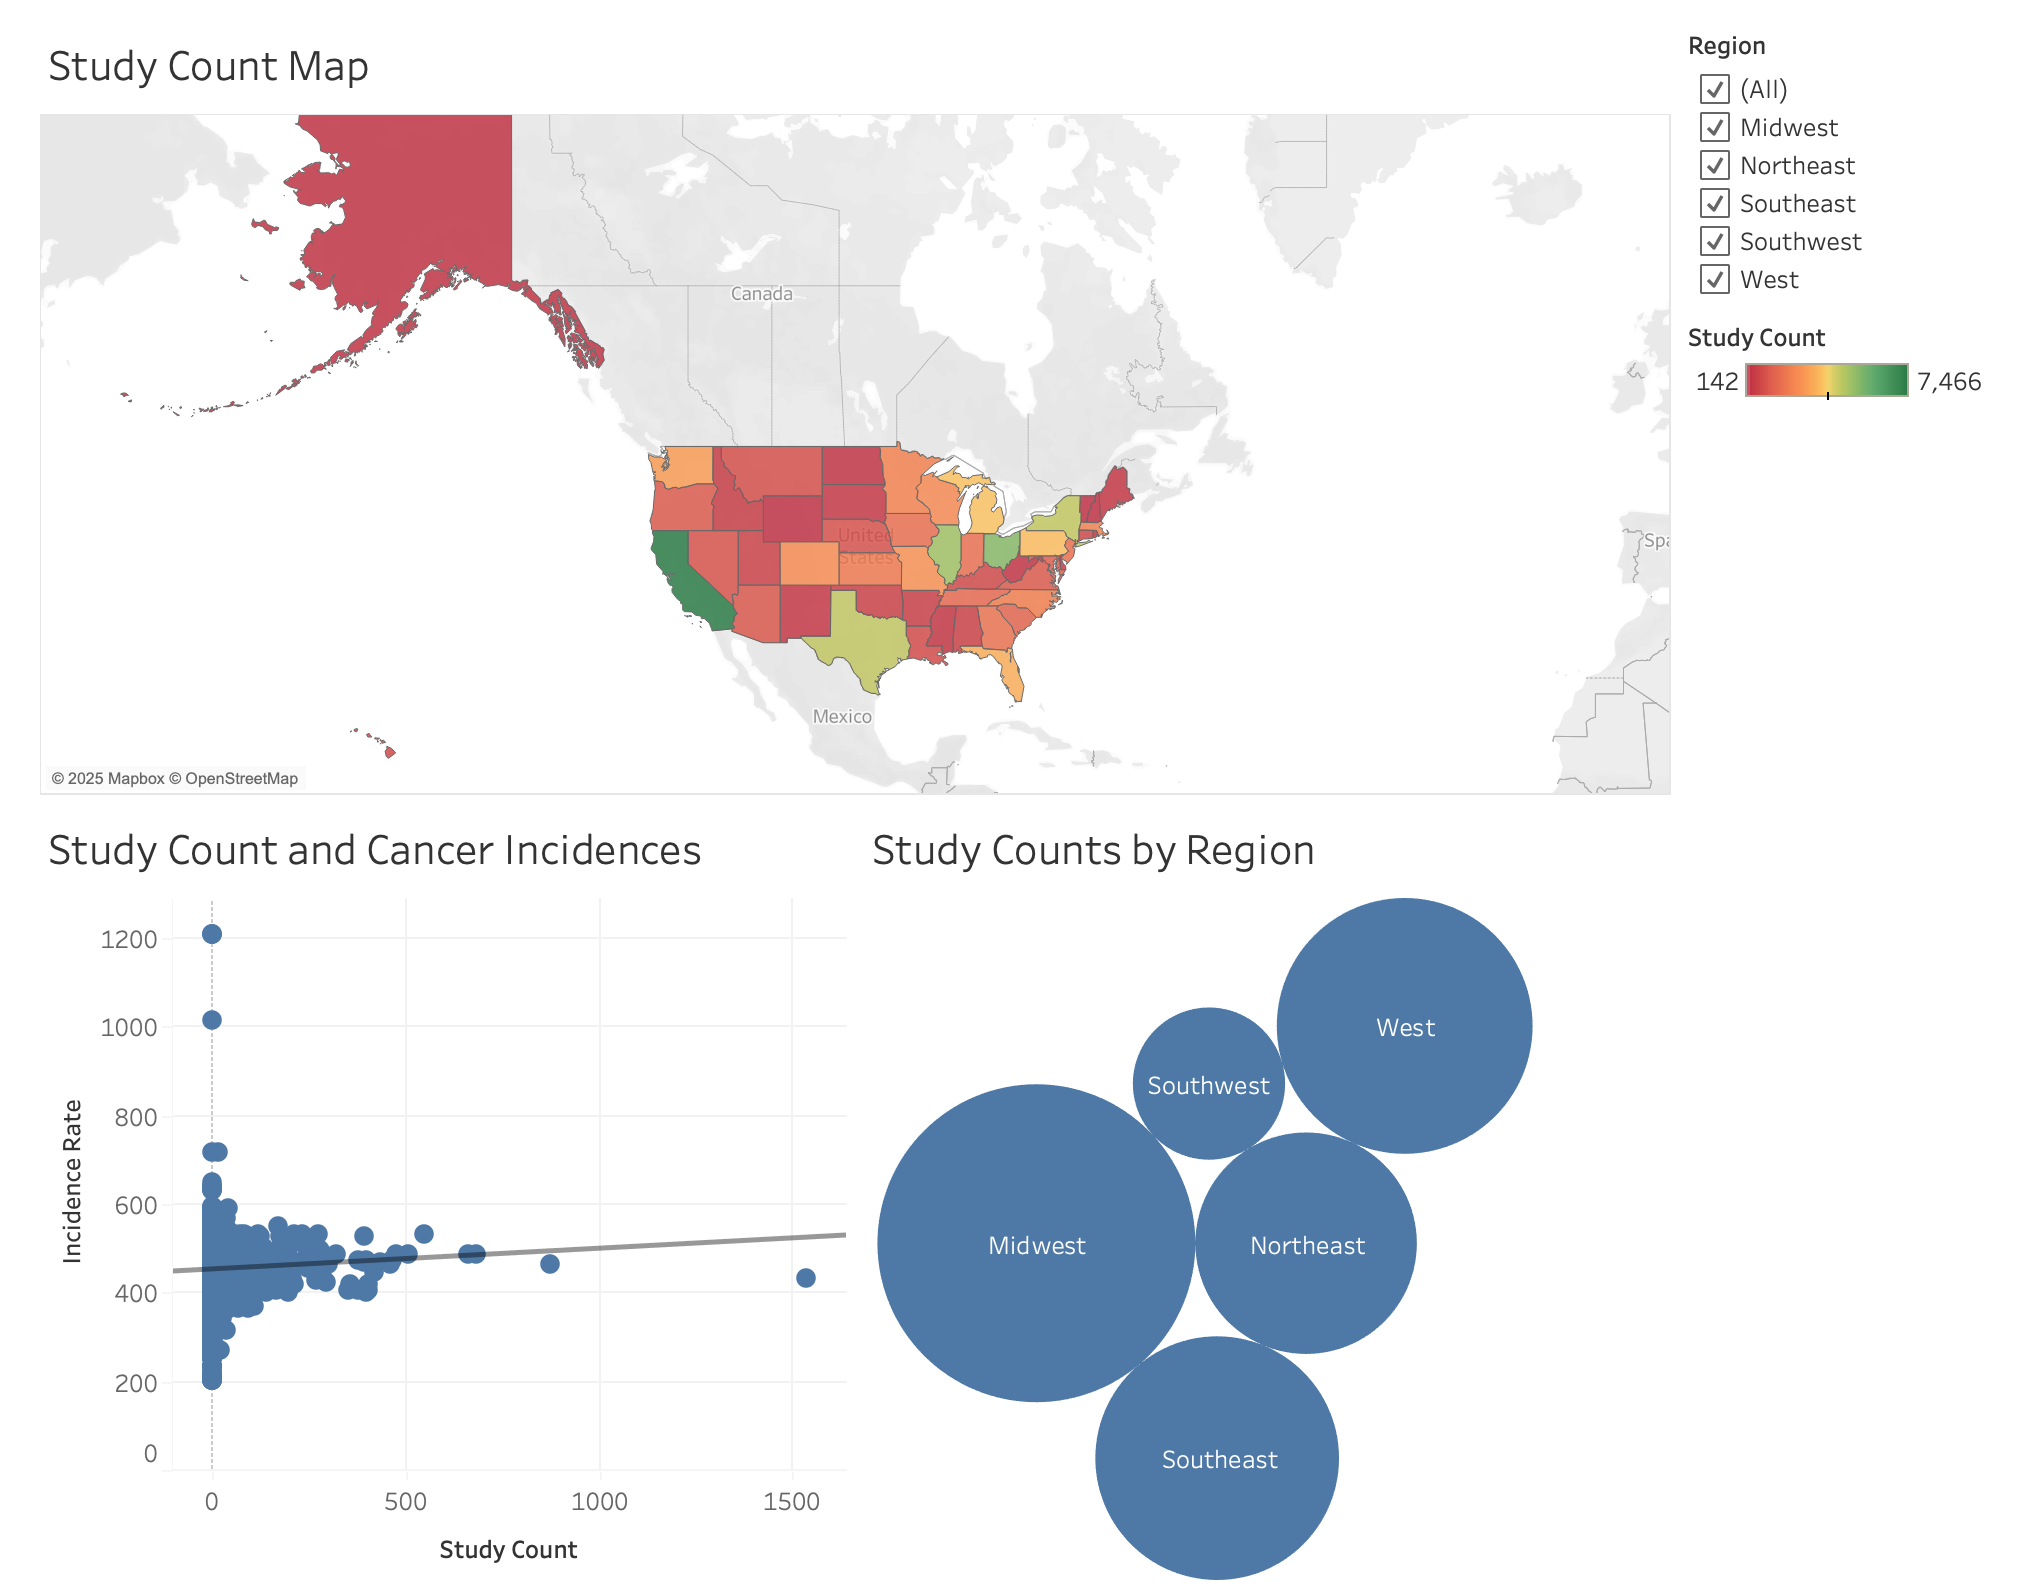

The page's visual inventory and layout, read from the dashboard file:
{"tool":"tableau","page":{"name":"United States Study Counts ","canvas":[1000,800],"ordinal":10},"visuals":[{"type":"worksheet","title":"Study Count Map","mark":"Automatic","box":[8,8,824,392]},{"type":"filter","title":"Study Count Map","param":"[federated.04o36gq1rfu74516y9lqn1qlyah2].[none:Region:nk]","box":[832,8,160,146]},{"type":"legend","title":"Study Count Map","param":"[federated.04o36gq1rfu74516y9lqn1qlyah2].[sum:studyCount:qk]","box":[832,154,160,65]},{"type":"worksheet","title":"Study Count and Cancer Incidences","mark":"Shape","rows":["incidenceRate"],"cols":["studyCount"],"box":[8,400,412,392]},{"type":"worksheet","title":"Region and Study Count","mark":"Circle","box":[420,400,412,392]}]}

Visuals, with their boxes in screenshot pixels (x1, y1, x2, y2), scaled from the page's 1000x800 canvas onto the 2018x1596 screenshot:
"Study Count Map" worksheet: (16, 16, 1679, 798)
"Study Count Map" filter: (1679, 16, 2002, 307)
"Study Count Map" legend: (1679, 307, 2002, 437)
"Study Count and Cancer Incidences" worksheet (Shape marks): (16, 798, 848, 1580)
"Region and Study Count" worksheet (Circle marks): (848, 798, 1679, 1580)
